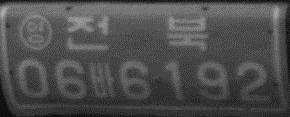0: (17, 56, 49, 100)
1: (161, 59, 192, 102)
2: (235, 59, 270, 103)
6: (55, 59, 87, 101), (119, 58, 151, 100)
9: (197, 59, 229, 102)
바: (88, 61, 116, 98)
영: (18, 13, 54, 51)
전북_D: (65, 14, 209, 52)
